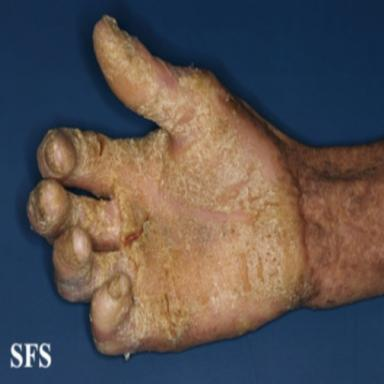Darier_s-Disease: (28, 17, 306, 355)
